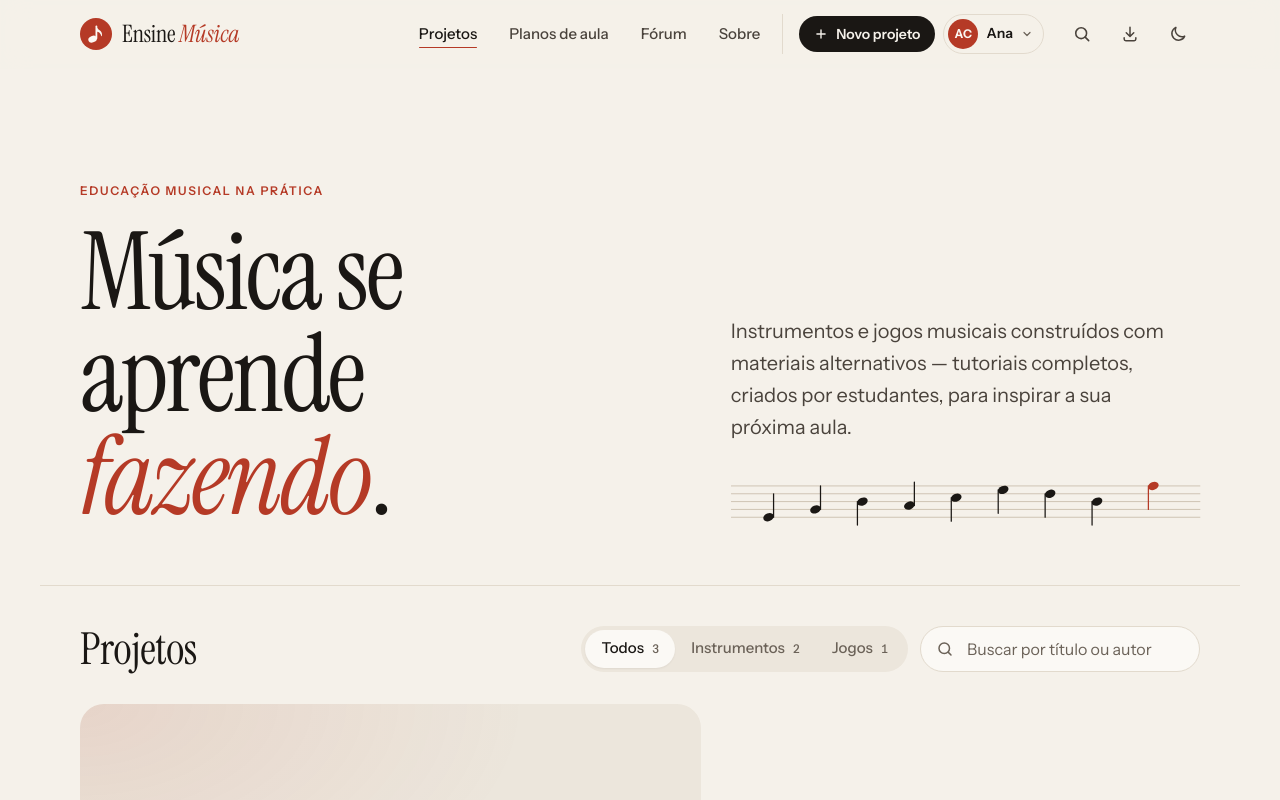
contas individuais › menu da conta mostra Contas e Backup só para administradores
Click the button with aria-label "Conta de Ana Costa" at (994, 34), box [944, 14, 1044, 54]
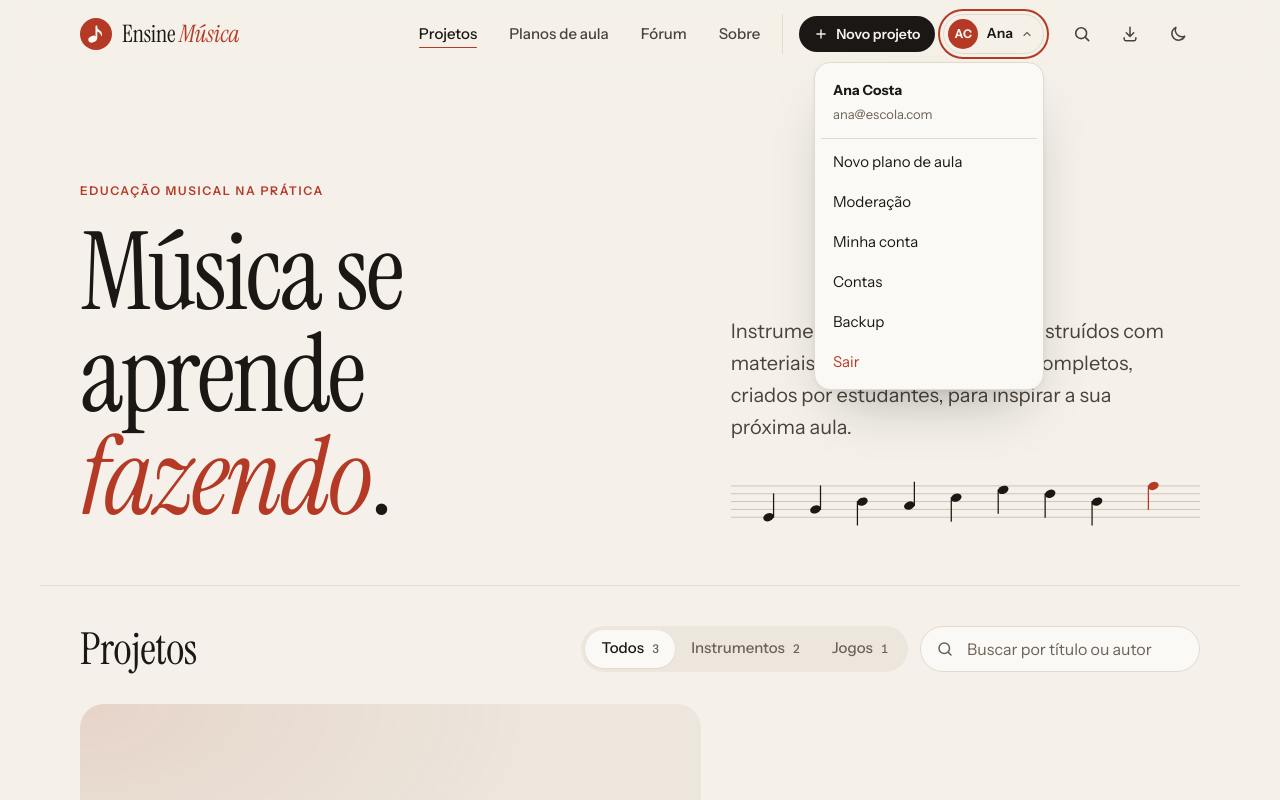
Expected: the link "Contas" is shown, [833, 272, 882, 291]
Expected: the link "Backup" is shown, [833, 312, 884, 331]
